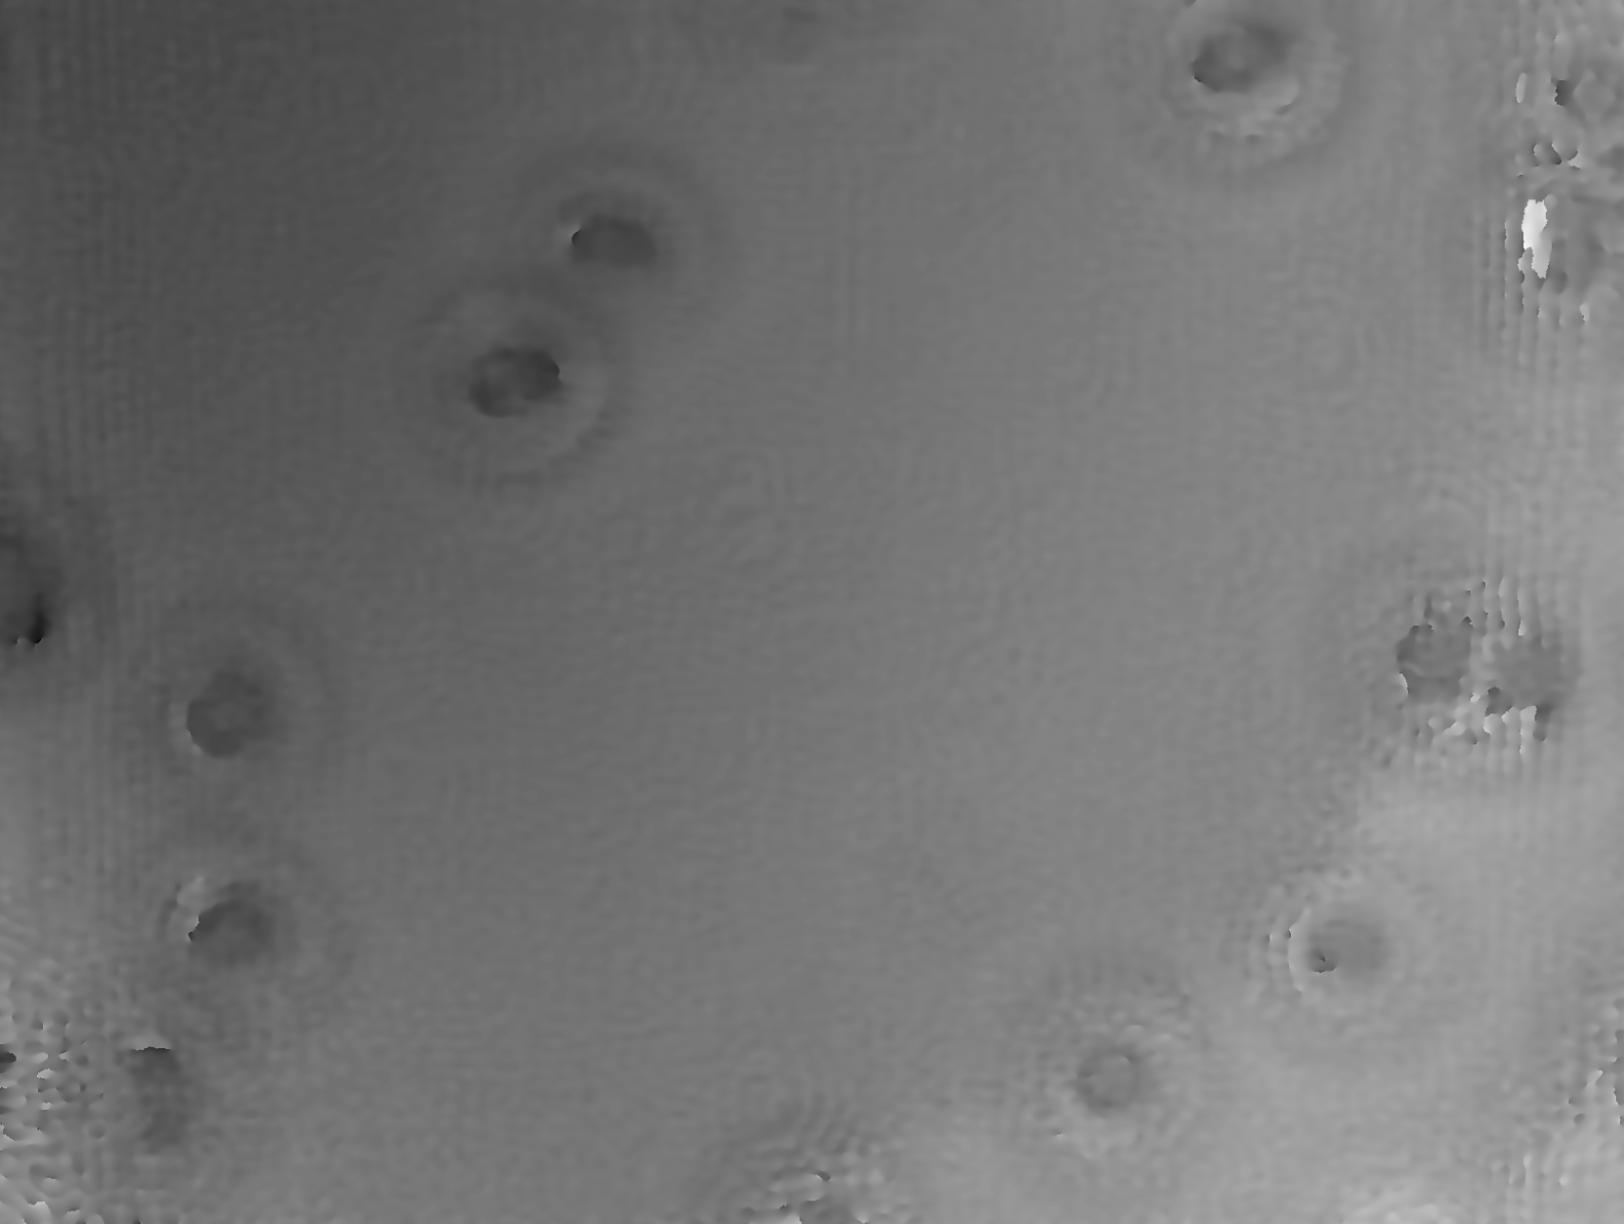cell: (87, 562, 363, 861), (84, 804, 370, 1084), (1327, 525, 1621, 796), (462, 112, 761, 375), (366, 242, 654, 516), (1229, 827, 1470, 1074), (1099, 1, 1375, 212), (1009, 972, 1214, 1180)
